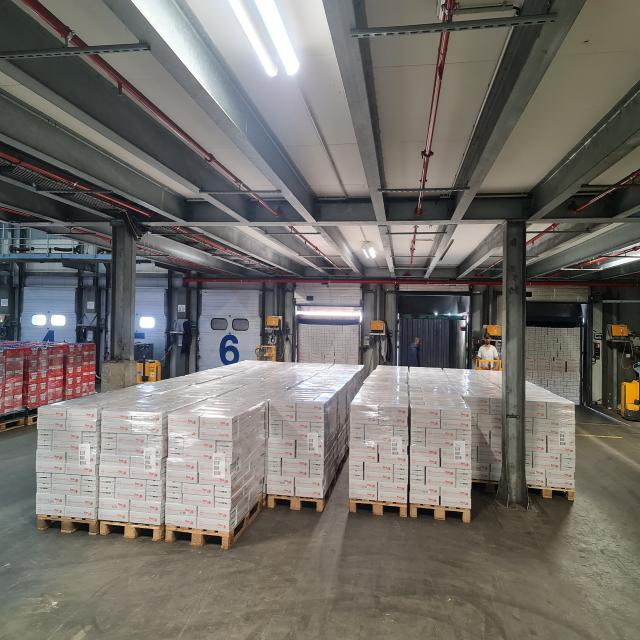Carton: (35, 361, 364, 534), (349, 365, 502, 506), (0, 340, 94, 415), (525, 379, 574, 487), (525, 326, 579, 404)
